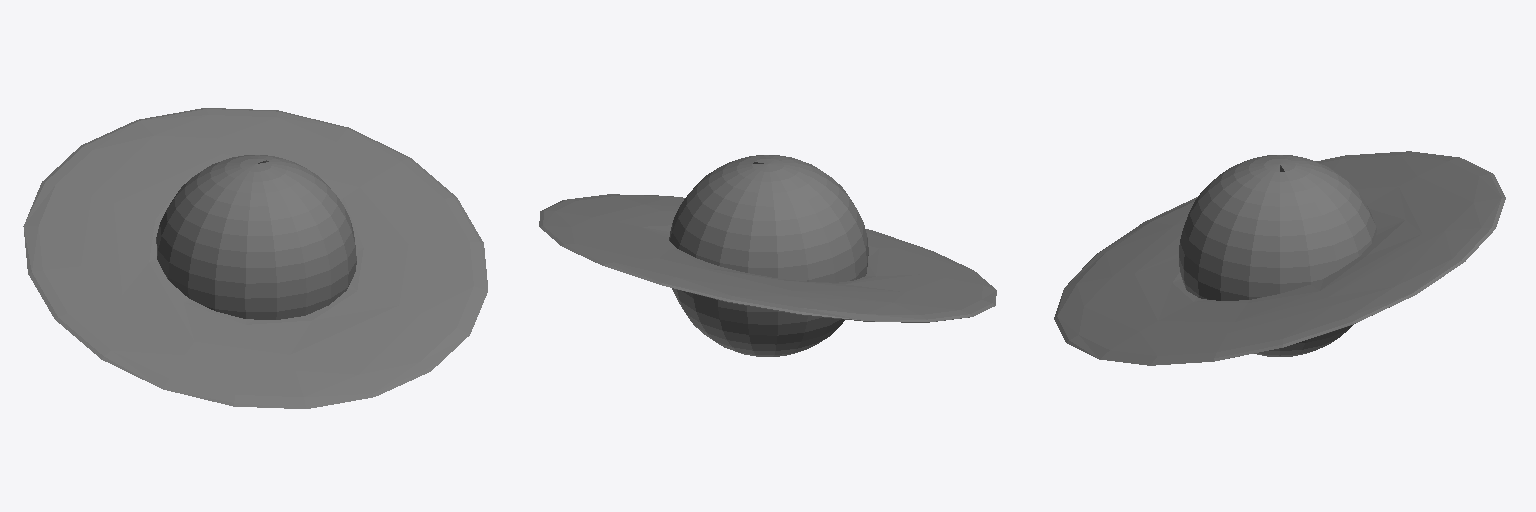
The model's file is Saturn.obj.
The picture shows the model from 3 angles: view 1: azimuth 30°, elevation 25°; view 2: azimuth 150°, elevation 25°; view 3: azimuth 270°, elevation 25°; orthographic projection.
Visible parts, largest first — view 1: SaturnRing:pTorus1, Planet:pSphere1; view 2: Planet:pSphere1, SaturnRing:pTorus1; view 3: SaturnRing:pTorus1, Planet:pSphere1.
Boxes of the visible parts, x1=… form: SaturnRing:pTorus1: x1=23, y1=108, x2=487, y2=408; Planet:pSphere1: x1=156, y1=155, x2=356, y2=319; Planet:pSphere1: x1=669, y1=155, x2=868, y2=356; SaturnRing:pTorus1: x1=539, y1=194, x2=996, y2=322; SaturnRing:pTorus1: x1=1054, y1=151, x2=1505, y2=365; Planet:pSphere1: x1=1179, y1=155, x2=1376, y2=356.
Size of the model in its own units: 24.71 by 10.69 by 23.81.